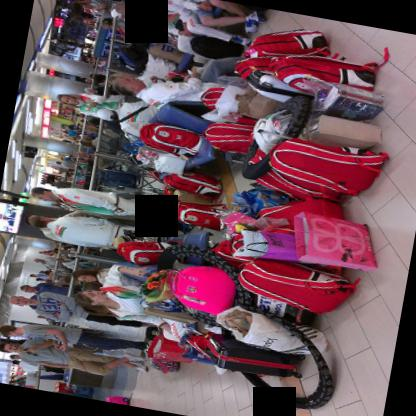backpack: (161, 46, 396, 320), (268, 136, 390, 197), (269, 54, 374, 93), (255, 197, 343, 234), (245, 27, 333, 59), (138, 122, 205, 157), (253, 293, 315, 324), (170, 199, 227, 230), (163, 170, 223, 199), (201, 121, 255, 153), (116, 241, 168, 265), (190, 35, 243, 58), (114, 44, 148, 72), (228, 230, 246, 252)
handbag: (167, 265, 238, 314)
suitcase: (206, 337, 300, 377), (235, 58, 313, 103)
